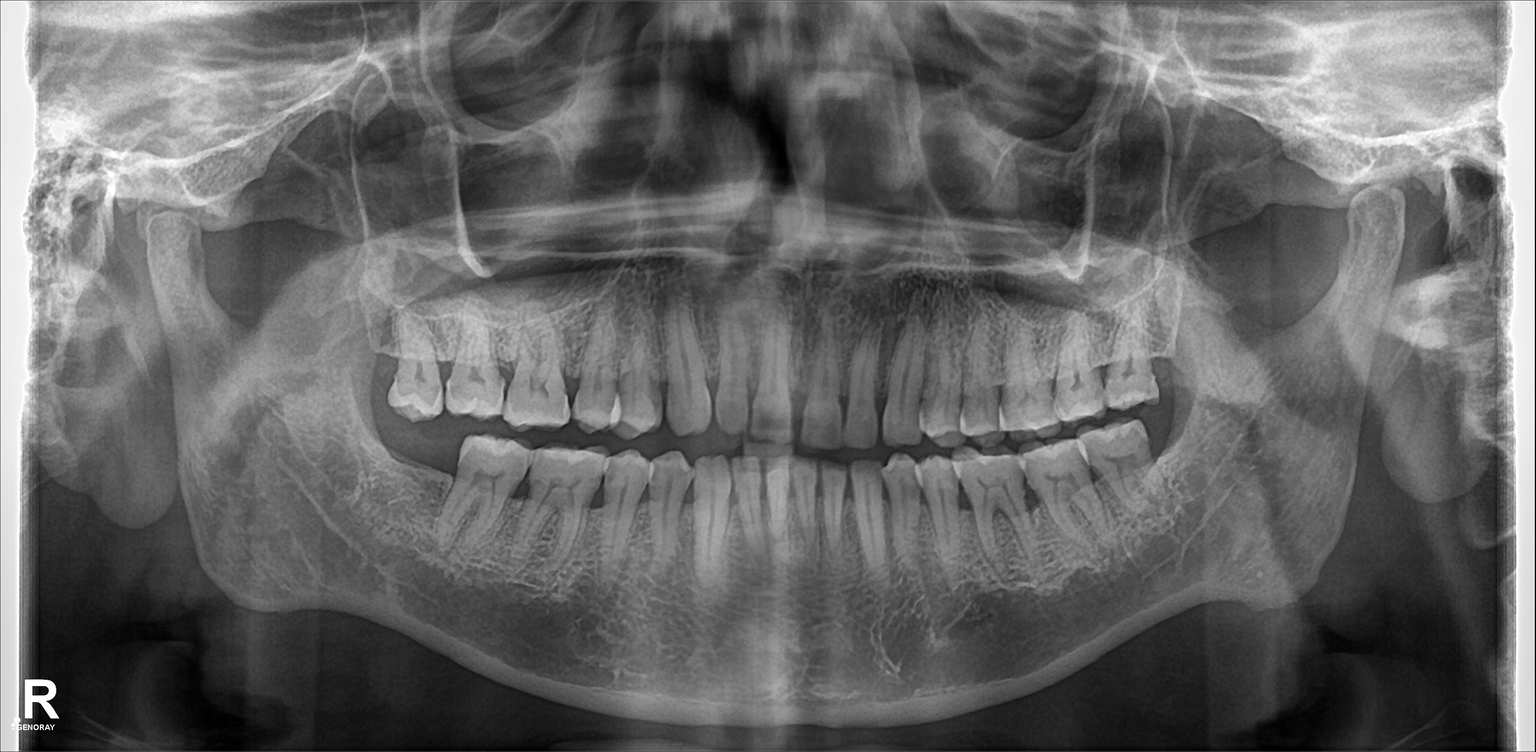Missing Tooth: (341, 316, 402, 408), (350, 415, 399, 523), (402, 443, 457, 533), (1162, 417, 1216, 505)
